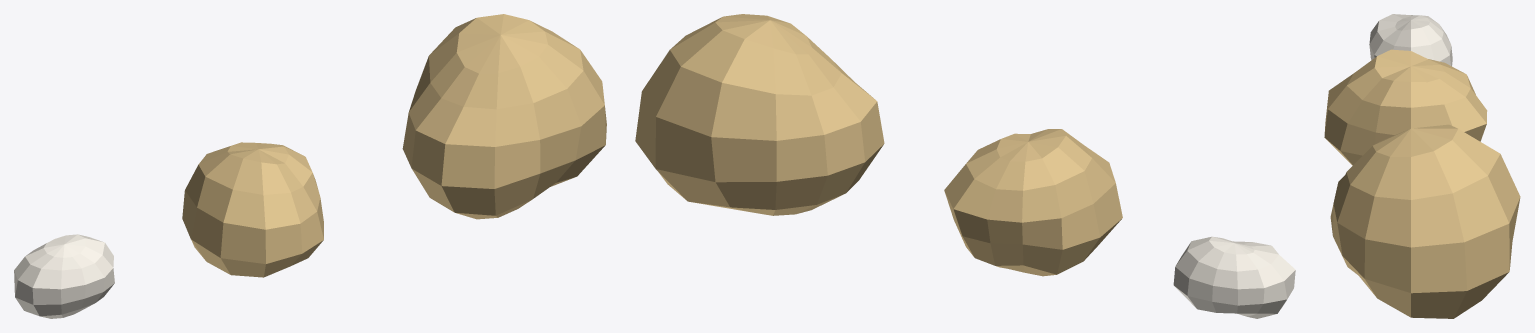
Rendered from rocks.glb.
The picture shows the model from 3 angles, left to right: view 1: azimuth 30°, elevation 25°; view 2: azimuth 150°, elevation 25°; view 3: azimuth 270°, elevation 25°; orthographic projection. The views are drawn at different scales.
Visible parts, largest first — view 1: rock_large, rock_medium, rock_small; view 2: rock_large, rock_medium, rock_small; view 3: rock_large, rock_medium, rock_small.
Part boxes in pixels (x1,y1,x2,y2): rock_large: [402, 14, 606, 219]; rock_medium: [182, 142, 323, 277]; rock_small: [14, 234, 114, 318]; rock_large: [635, 14, 884, 215]; rock_medium: [944, 129, 1122, 276]; rock_small: [1173, 236, 1295, 318]; rock_large: [1330, 124, 1520, 318]; rock_medium: [1324, 49, 1487, 165]; rock_small: [1369, 14, 1452, 66].
Size of the model in its own units: 18.32 by 5 by 5.33.
